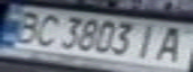0: (93, 17, 118, 56)
3: (54, 14, 84, 52), (112, 19, 139, 57)
8: (75, 16, 100, 53)
A: (148, 24, 193, 64)
B: (6, 7, 48, 44)
C: (27, 11, 66, 47)
I: (130, 21, 166, 61)
